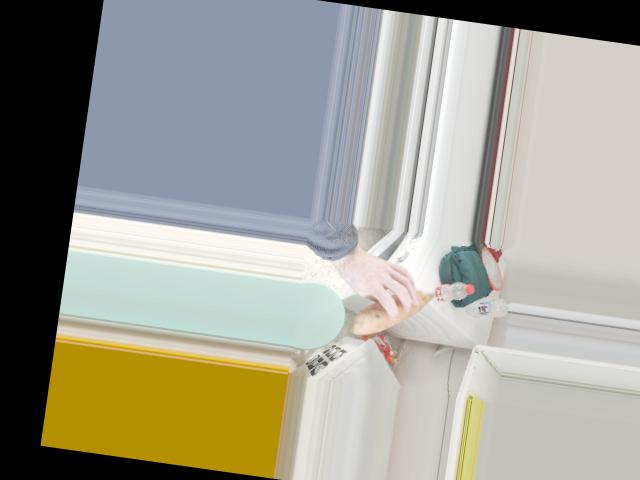sweet_potato: (362, 273, 433, 343)
